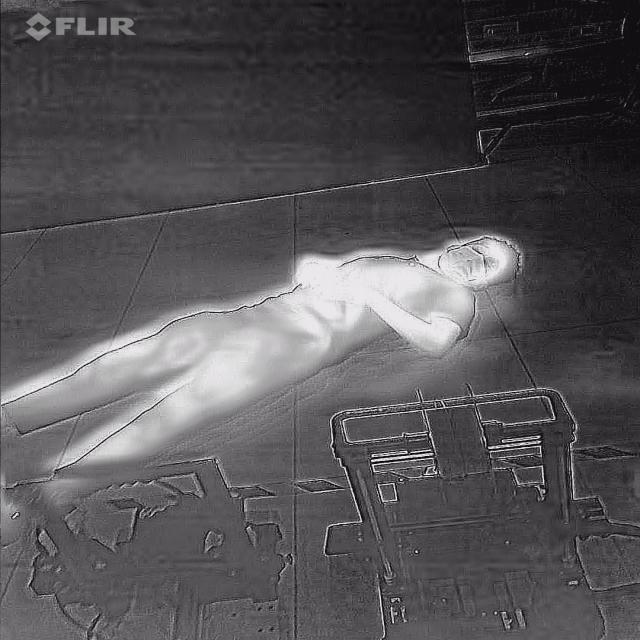Victim: (0, 222, 551, 543)
